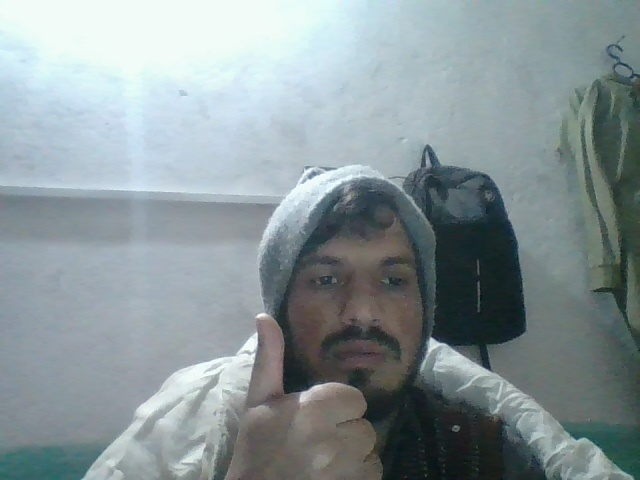ThumbsUp: (227, 309, 390, 480)
